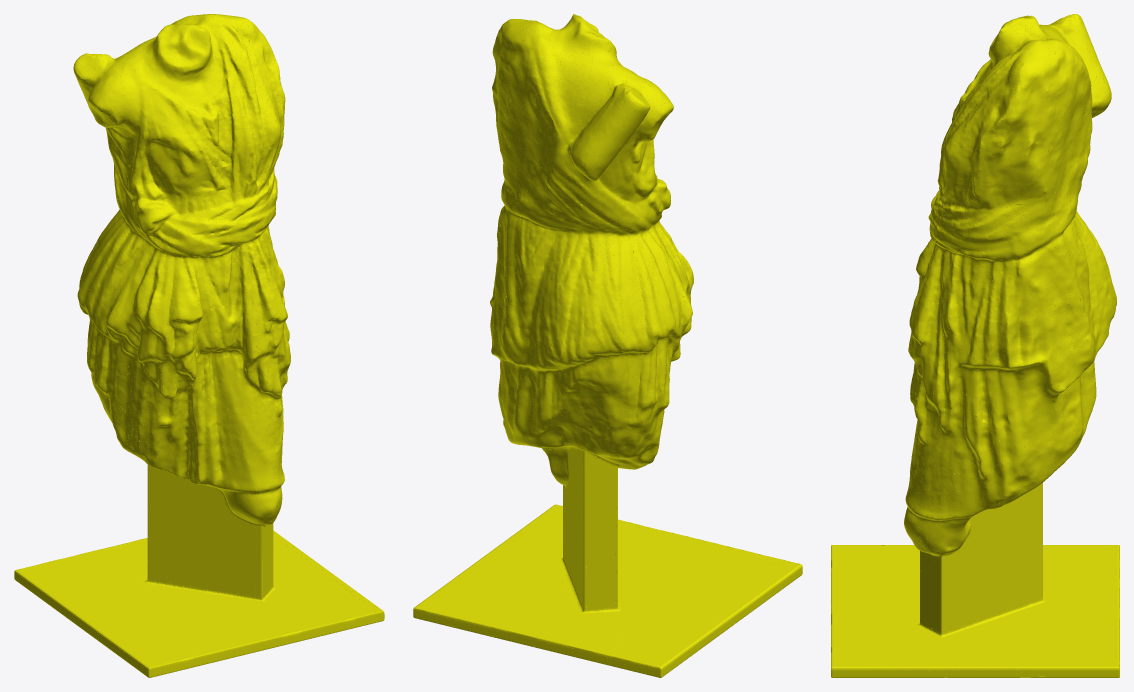
Rendered from artemis_draco_remsub.glb.
3 renders of one model, left to right at view 1: azimuth 30°, elevation 25°; view 2: azimuth 150°, elevation 25°; view 3: azimuth 270°, elevation 25°, orthographic. The views are drawn at different scales.
Parts seen in each view (by area): view 1: Louvre-Artemis-Diana-1; view 2: Louvre-Artemis-Diana-1; view 3: Louvre-Artemis-Diana-1.
Boxes of the visible parts, x1,y1,x2,y2 form: Louvre-Artemis-Diana-1: [14, 14, 384, 677]; Louvre-Artemis-Diana-1: [413, 14, 802, 677]; Louvre-Artemis-Diana-1: [831, 14, 1119, 677].
Size of the model in its own units: 0.7336 by 1.66 by 0.7247.
